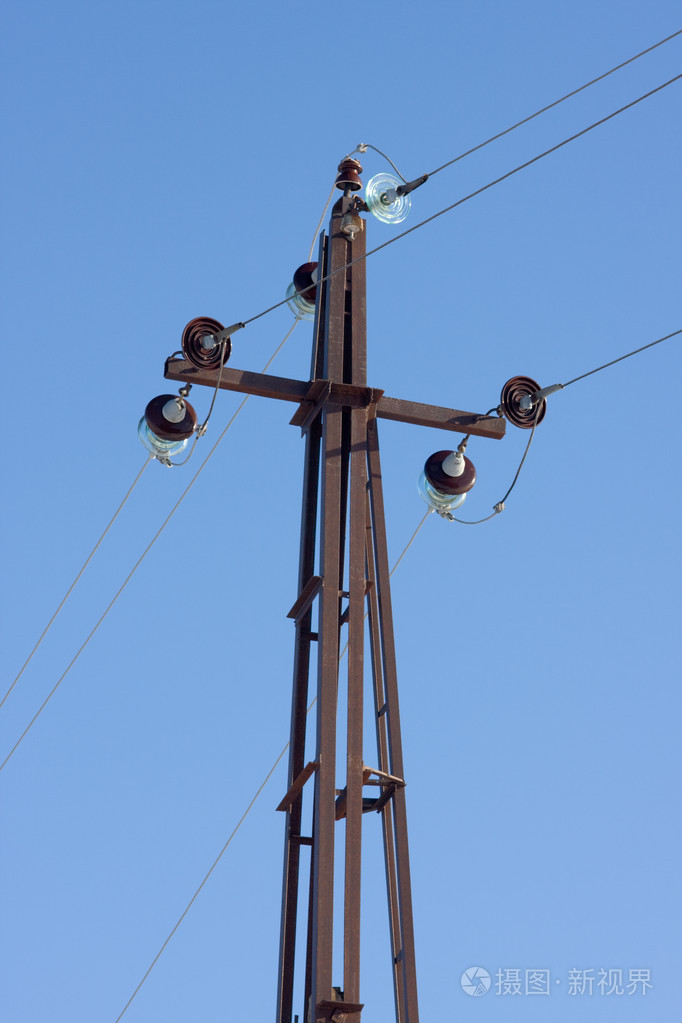insulator: (137, 388, 197, 462), (413, 449, 473, 512), (177, 314, 235, 371), (496, 374, 550, 431), (363, 172, 415, 225), (283, 263, 322, 322)
